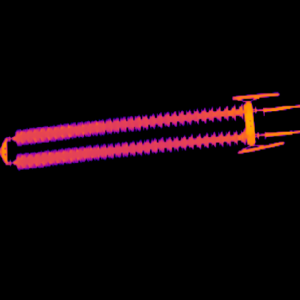insulator: (14, 104, 247, 170)
